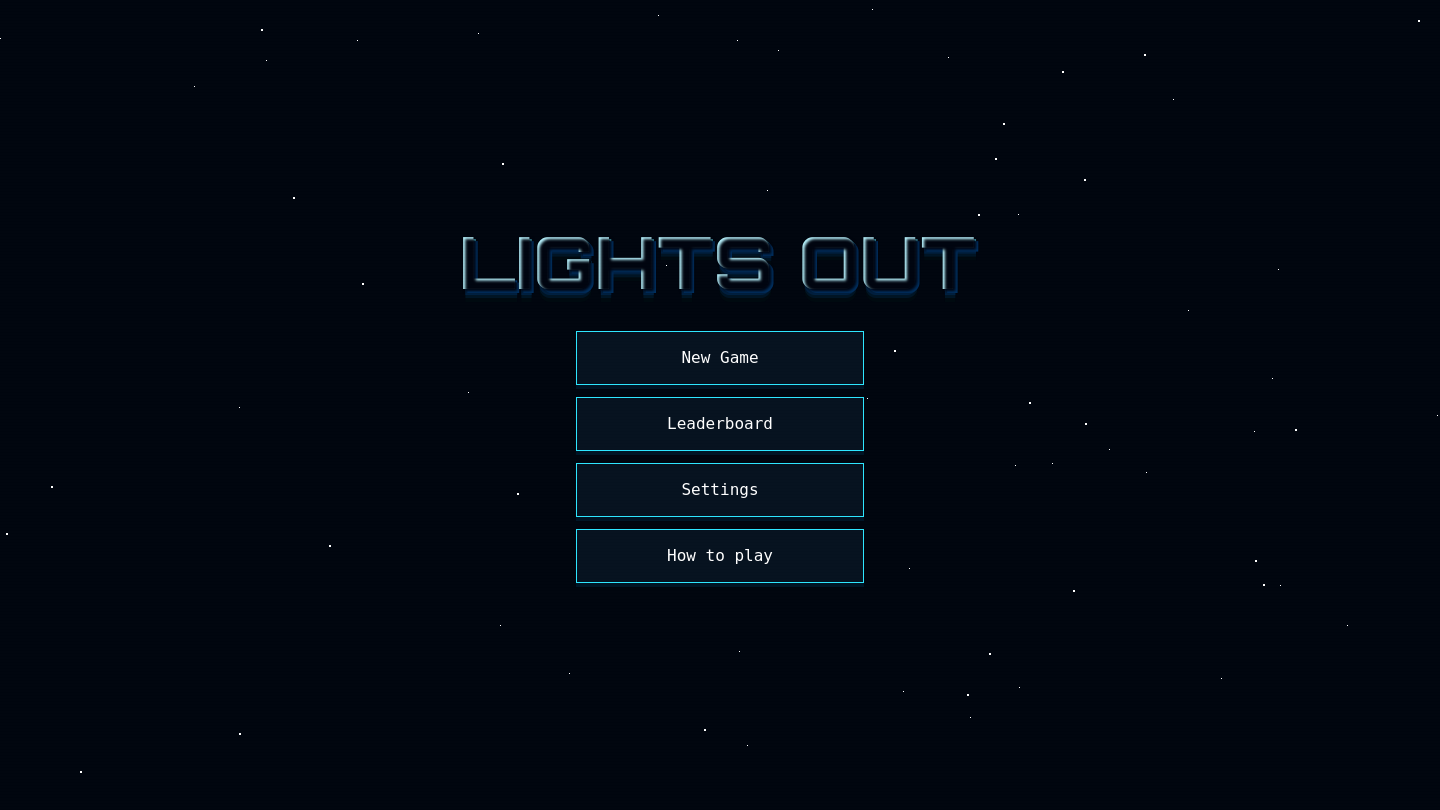
App › opens the help dialog from the title screen
Click the button "How to play": [720, 556] box [576,529,864,583]
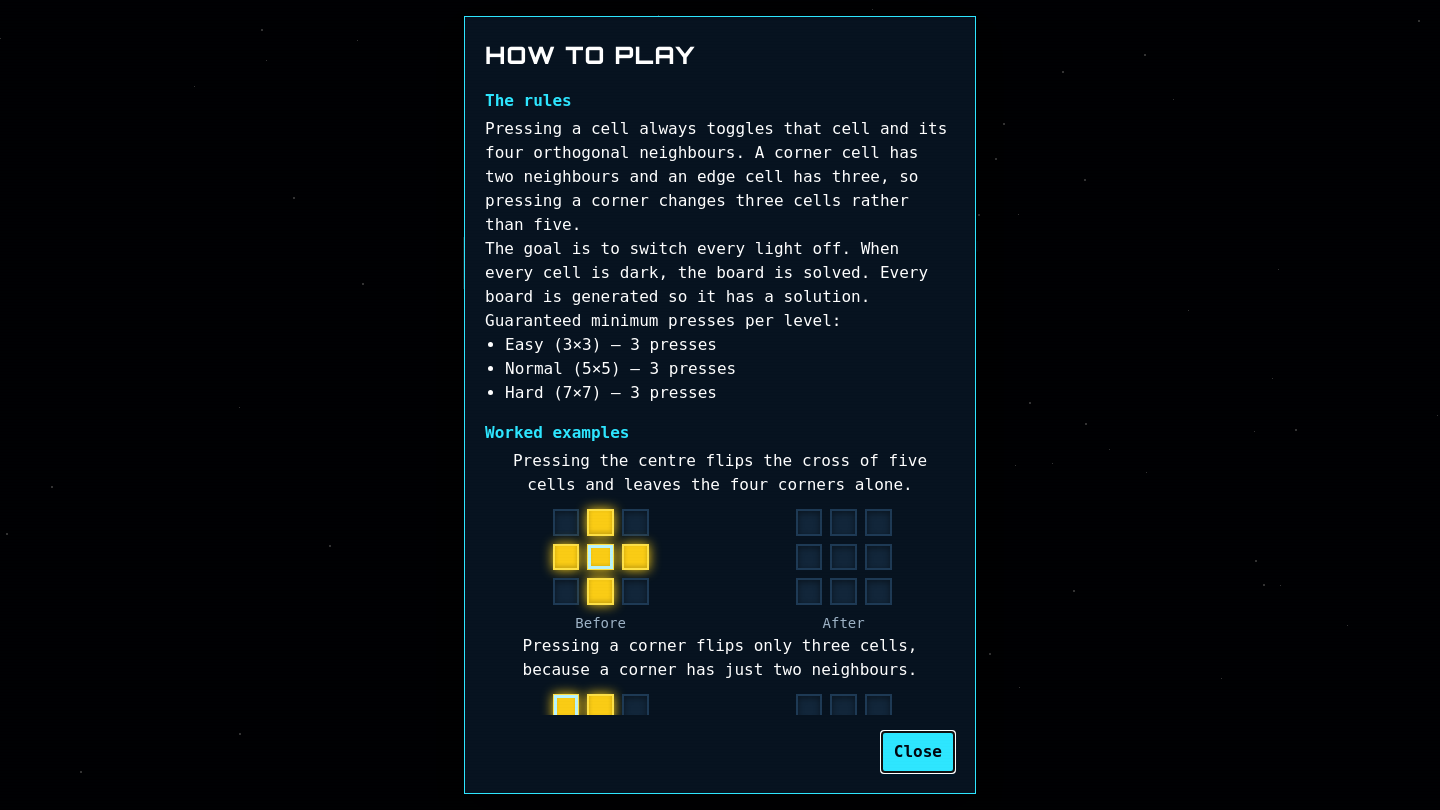
Expected: the dialog is shown, [464,16,976,794]
Expected: the heading "How to play" is shown, [485,40,696,70]
